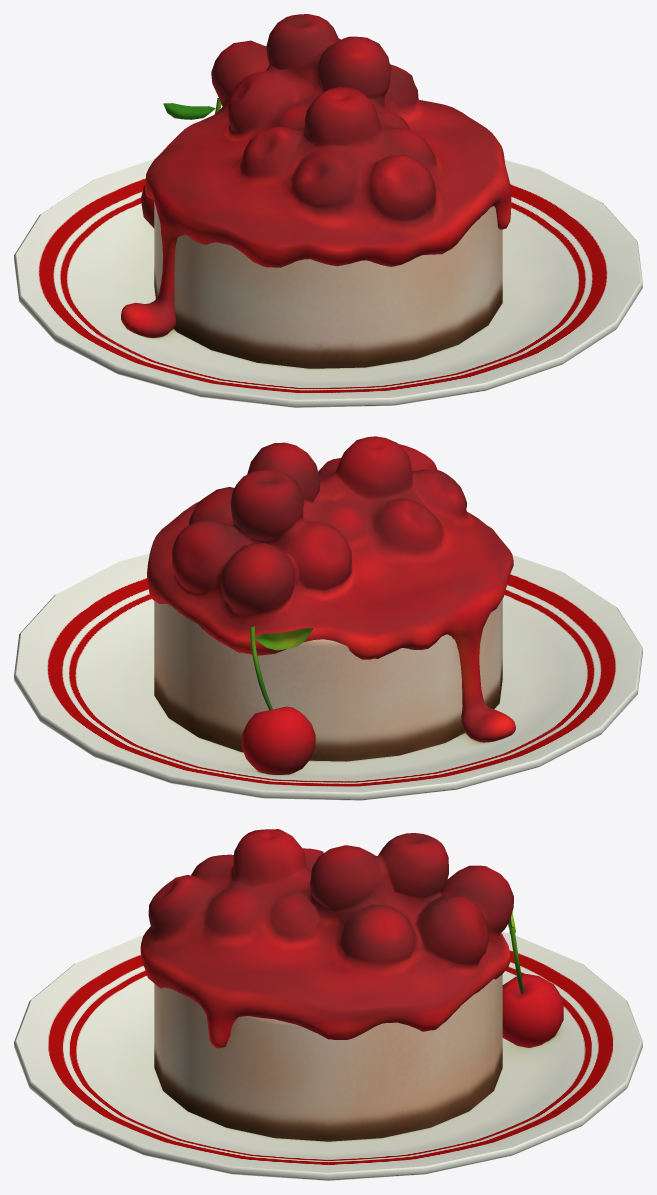
Rendered from item_1751815787393.glb.
The picture shows the model from 3 angles, top to bottom: view 1: azimuth 30°, elevation 25°; view 2: azimuth 150°, elevation 25°; view 3: azimuth 270°, elevation 25°; orthographic projection.
Visible parts, largest first — view 1: Object_4, Object_5, Object_2, Object_6; view 2: Object_4, Object_5, Object_2, Object_3, Object_6; view 3: Object_4, Object_5, Object_2, Object_3.
Boxes of the visible parts, box(x1,y1,x2,y2) form: Object_4: box(121, 14, 511, 337); Object_5: box(14, 158, 642, 407); Object_2: box(154, 202, 502, 368); Object_6: box(163, 98, 221, 119); Object_4: box(147, 436, 515, 742); Object_5: box(14, 553, 642, 800); Object_2: box(154, 599, 502, 761); Object_3: box(241, 706, 315, 774); Object_6: box(250, 626, 313, 709); Object_4: box(140, 829, 513, 1048); Object_5: box(14, 932, 642, 1180); Object_2: box(154, 974, 502, 1141); Object_3: box(502, 974, 563, 1047).
Size of the model in its own units: 7.17 by 3.21 by 7.17.
Materials: 5 (5 with a texture image).
